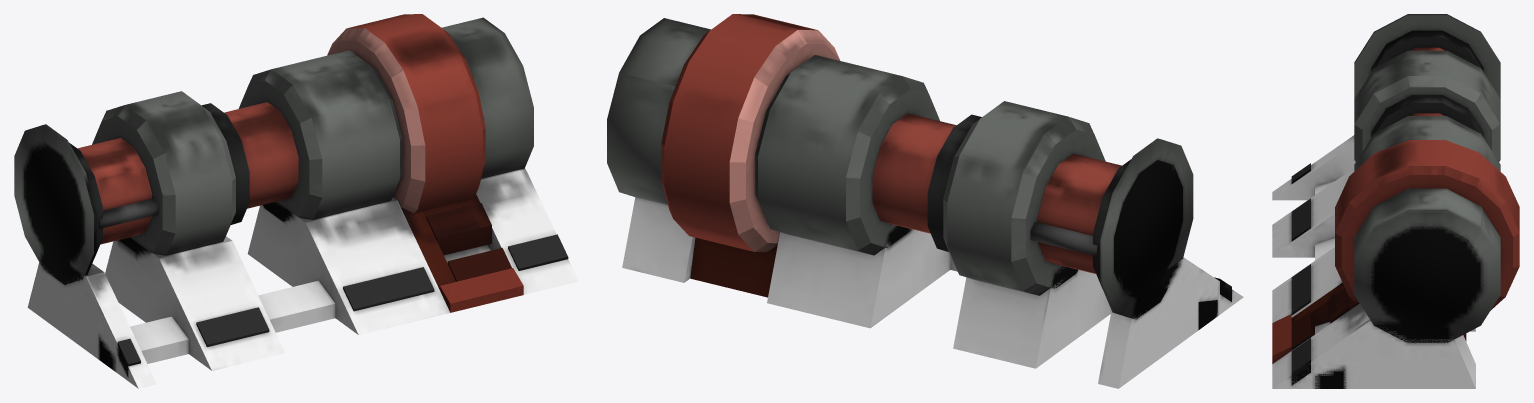
The model's file is newsh2-9.glb.
The picture shows the model from 3 angles, left to right: view 1: azimuth 30°, elevation 25°; view 2: azimuth 150°, elevation 25°; view 3: azimuth 270°, elevation 25°; orthographic projection. The views are drawn at different scales.
Visible parts, largest first — view 1: newsh2-9; view 2: newsh2-9; view 3: newsh2-9.
Boxes of the visible parts, box(x1,y1,x2,y2) form: newsh2-9: box(14, 14, 578, 388); newsh2-9: box(607, 14, 1243, 388); newsh2-9: box(1272, 14, 1519, 388).
Bounding box in the file's own units: 2 × 0.9264 × 1.06.
11 materials, 11 textured.
